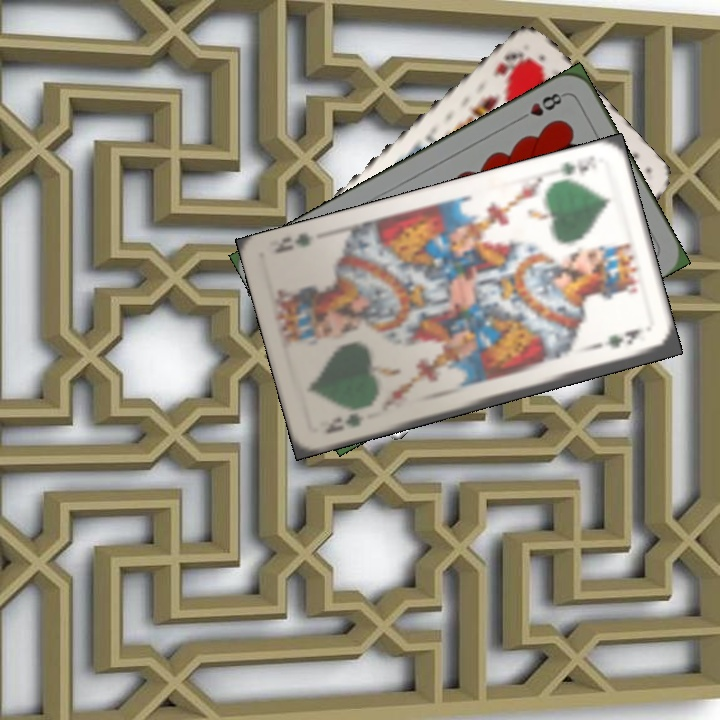GK: (320, 409, 367, 437), (554, 151, 600, 179)
H8: (514, 88, 568, 124)
HK: (489, 47, 527, 80)
